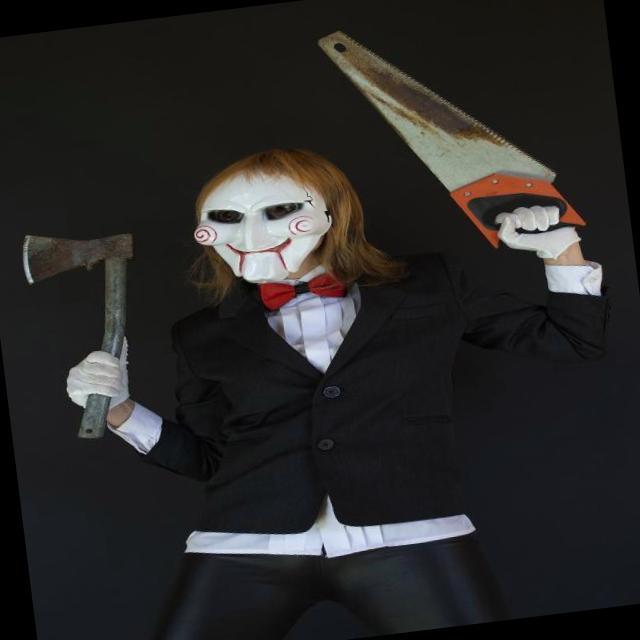Axe: (22, 233, 133, 356), (78, 393, 110, 438)
